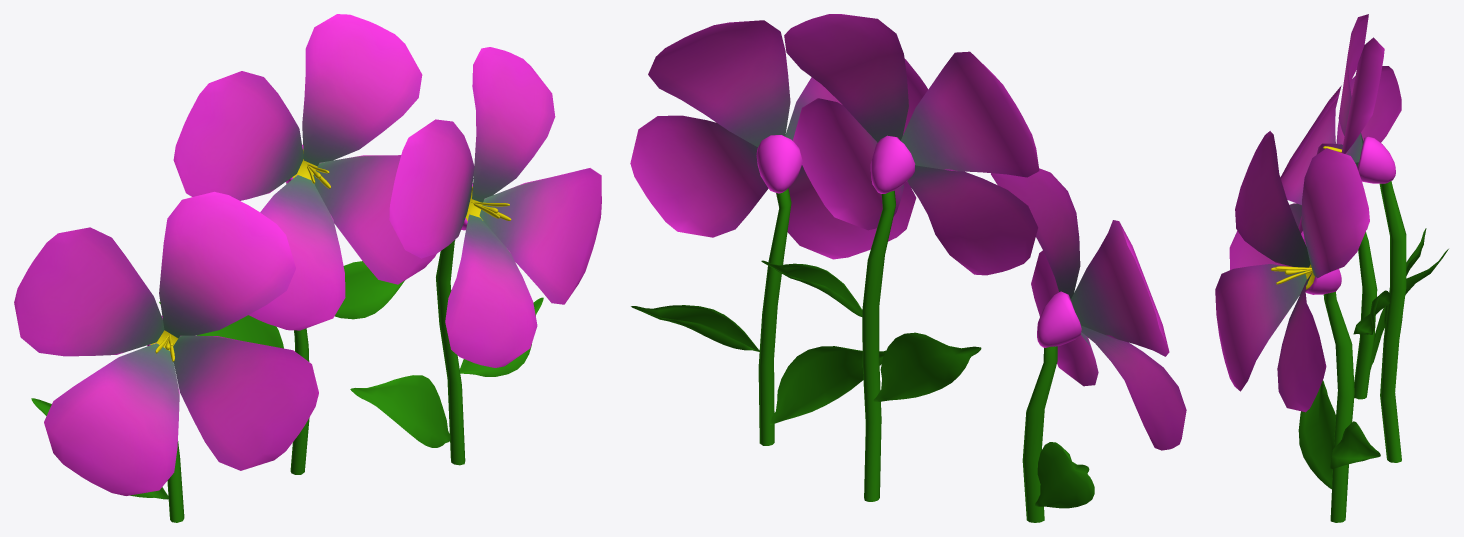
File: Flowers2.fbx
3 renders of one model, left to right at view 1: azimuth 30°, elevation 25°; view 2: azimuth 150°, elevation 25°; view 3: azimuth 270°, elevation 25°, orthographic. The views are drawn at different scales.
Parts seen in each view (by area): view 1: Flower2_Bundle; view 2: Flower2_Bundle; view 3: Flower2_Bundle.
Boxes of the visible parts, <box> form: Flower2_Bundle: <box>14,14,601,522</box>; Flower2_Bundle: <box>630,14,1186,522</box>; Flower2_Bundle: <box>1215,14,1448,522</box>.
Size of the model in its own units: 8.89 by 7.01 by 3.49.
Materials: 3 (1 with a texture image).
